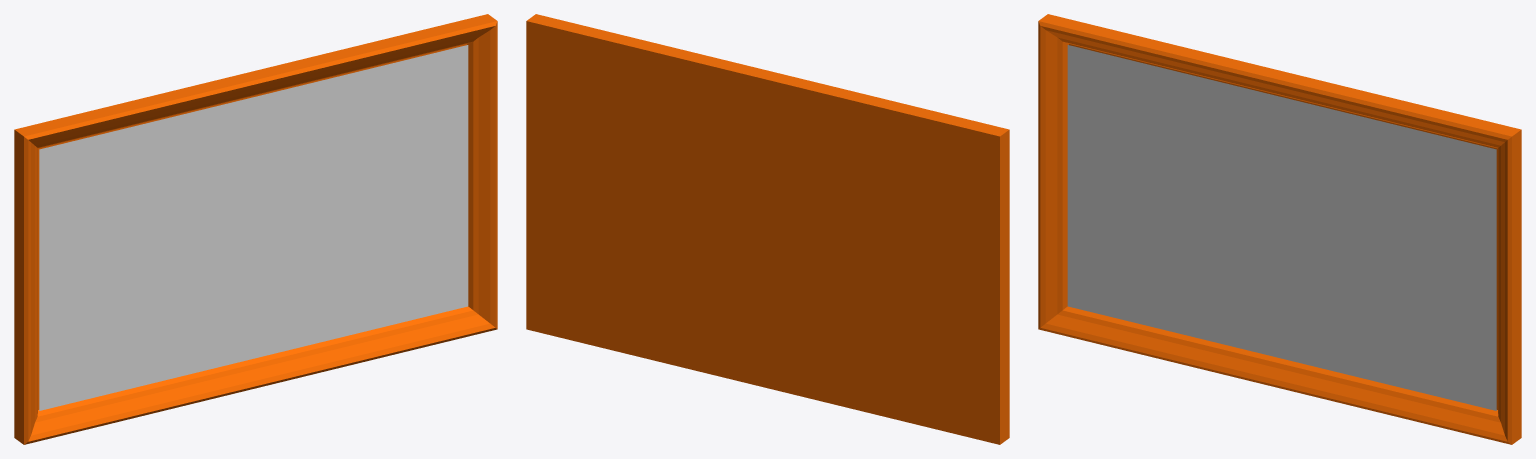
Rendered from Frame(Rectangle).fbx.
3 renders of one model, left to right at view 1: azimuth 30°, elevation 25°; view 2: azimuth 150°, elevation 25°; view 3: azimuth 330°, elevation 25°, orthographic.
Parts seen in each view (by area): view 1: Frame(RectangleX).001, Frame(RectangleX); view 2: Frame(RectangleX); view 3: Frame(RectangleX).001, Frame(RectangleX).
Part boxes in pixels (box(x1,y1,x2,y2)): Frame(RectangleX).001: box(39, 45, 468, 410); Frame(RectangleX): box(14, 14, 497, 444); Frame(RectangleX): box(526, 14, 1009, 444); Frame(RectangleX).001: box(1067, 45, 1496, 410); Frame(RectangleX): box(1038, 14, 1521, 444).
Size of the model in its own units: 800 by 498 by 31.38.
